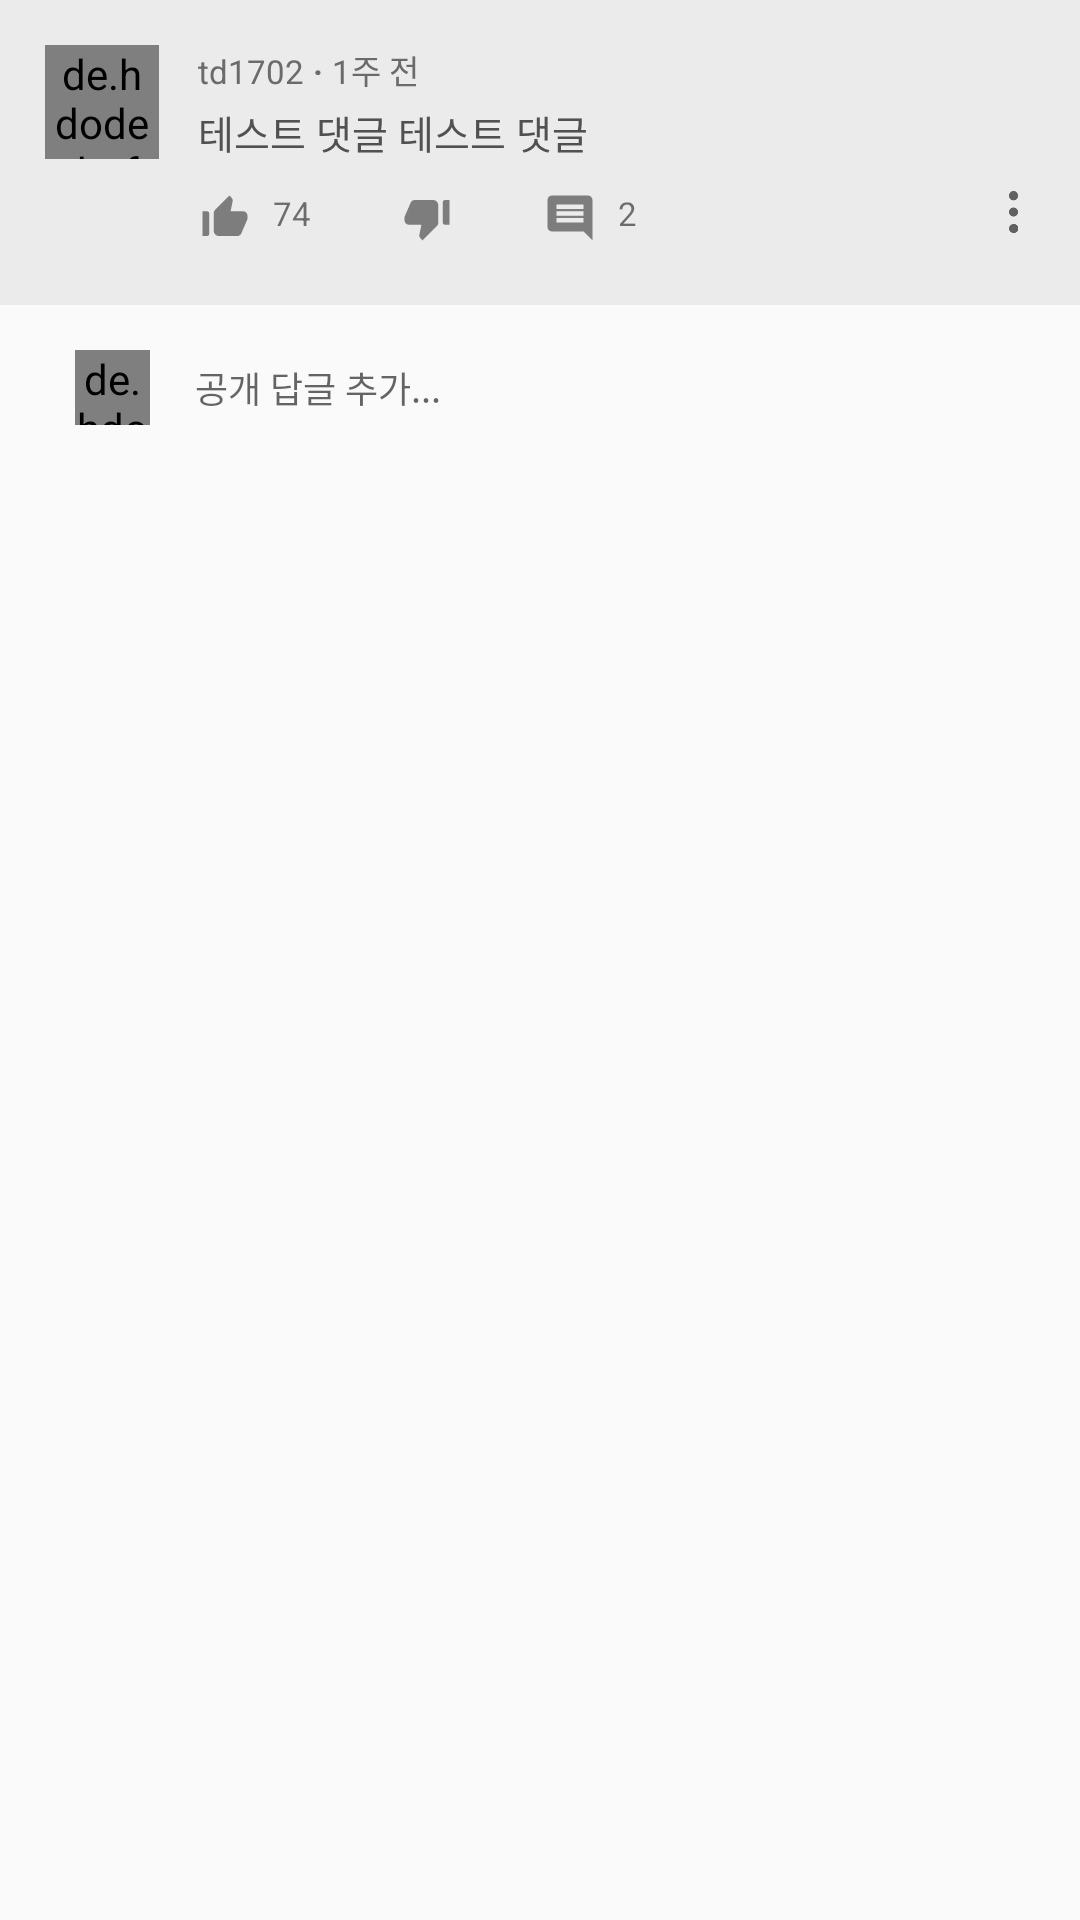

Screen size 1080w x 1920h. Icon name, then its center in pixels as (x=x, y=y):
comment: (x=570, y=217)
thumb down: (x=427, y=220)
thumb up: (x=225, y=215)
